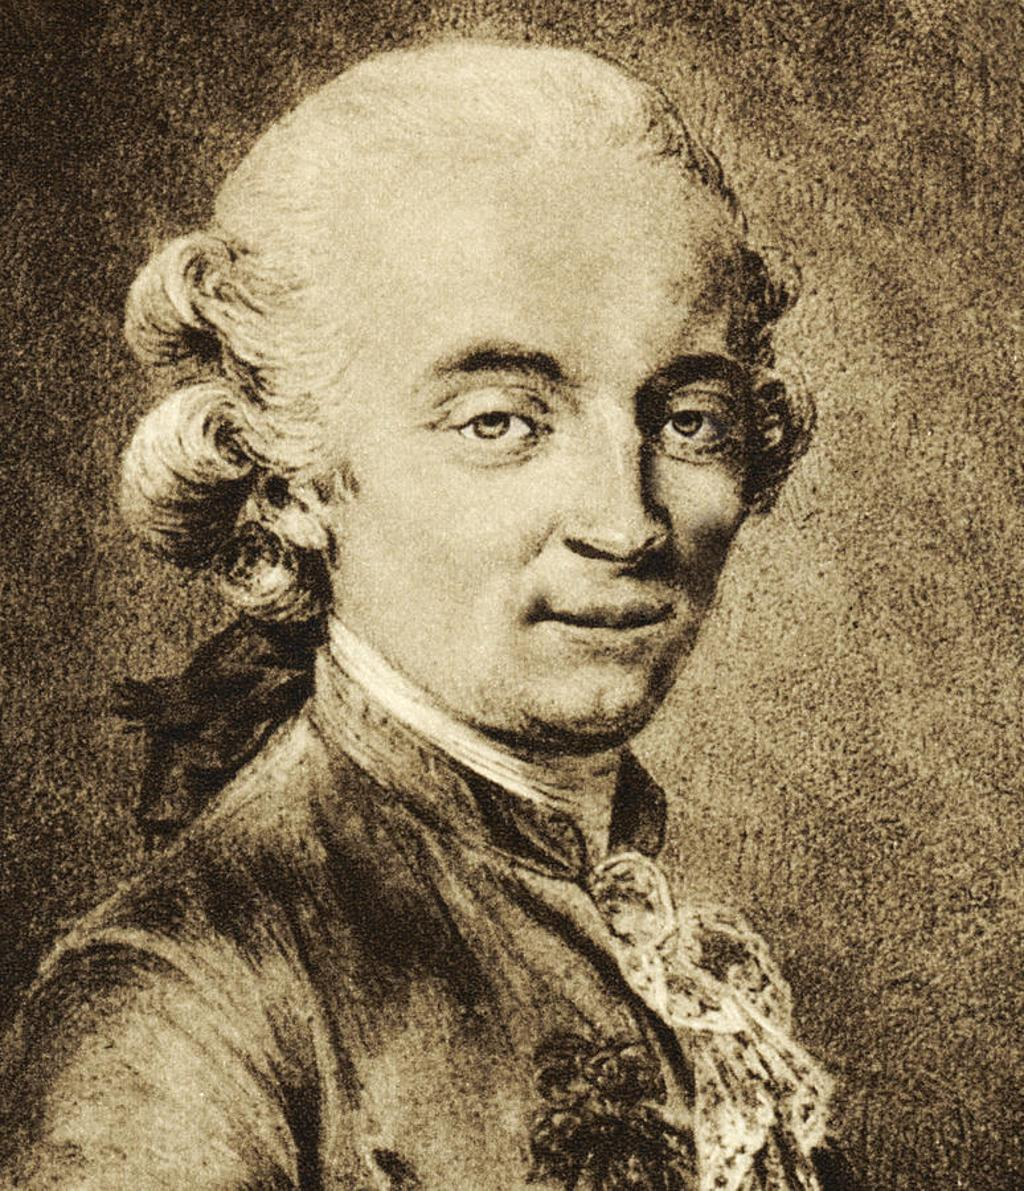face: (337, 109, 756, 726)
